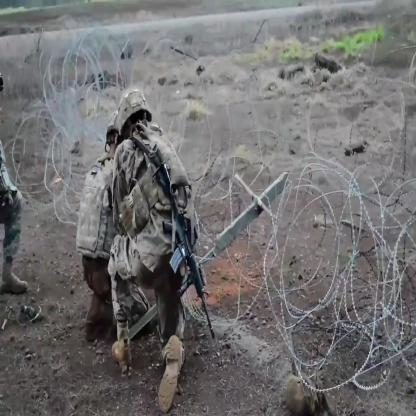Gun: (142, 141, 230, 359)
